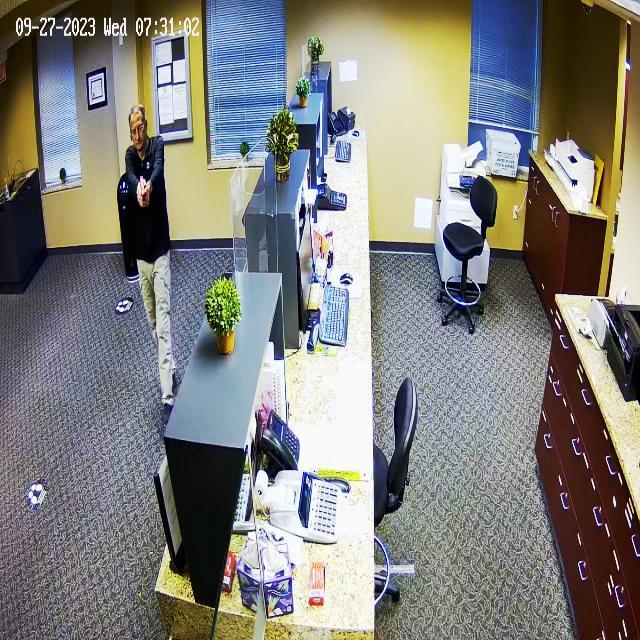Gun: (133, 171, 167, 208)
